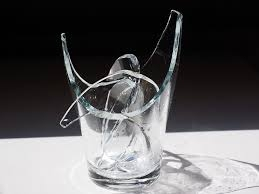glass: (43, 6, 190, 162), (95, 43, 157, 190), (57, 69, 162, 140)
